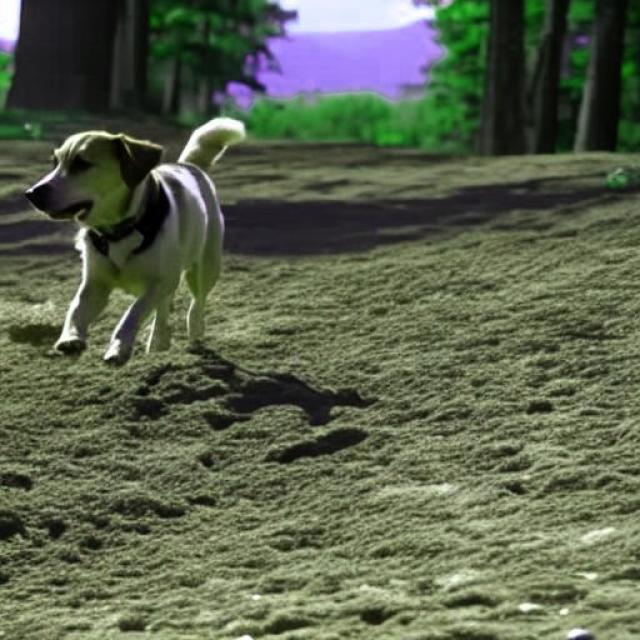Dog: (22, 115, 246, 368)
